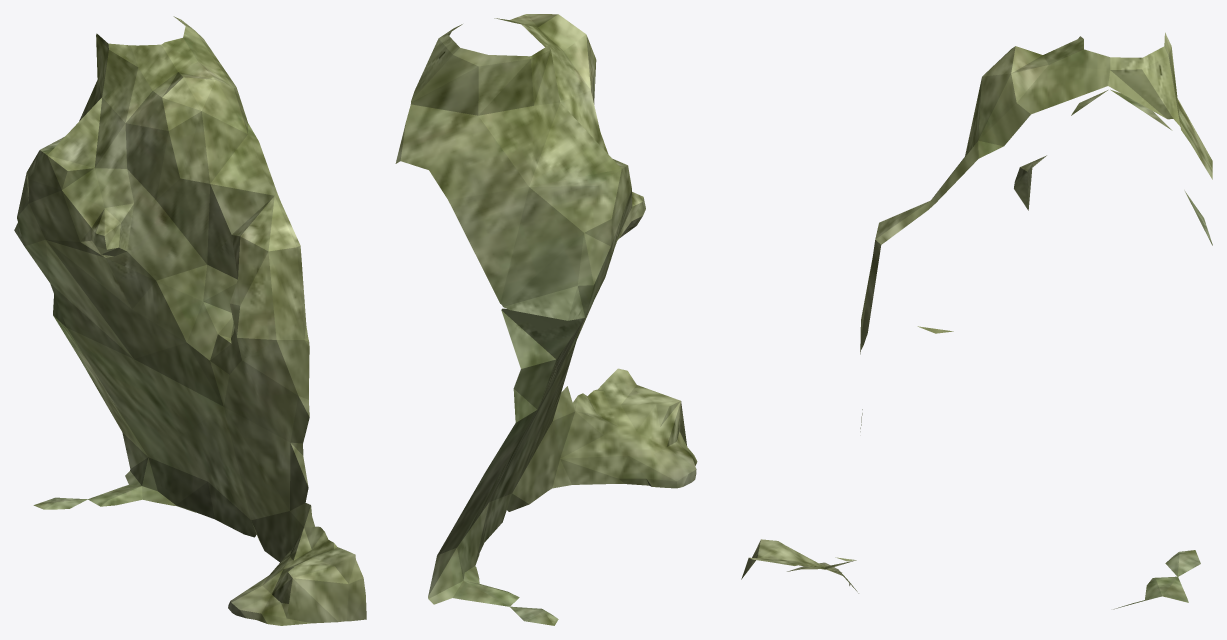
3 views of the same model, side by side, from view 1: azimuth 30°, elevation 25°; view 2: azimuth 150°, elevation 25°; view 3: azimuth 270°, elevation 25° (orthographic). The views are drawn at different scales.
Bounding box in the file's own units: 1.04 × 2.95 × 2.33.
2 materials, 2 textured.
